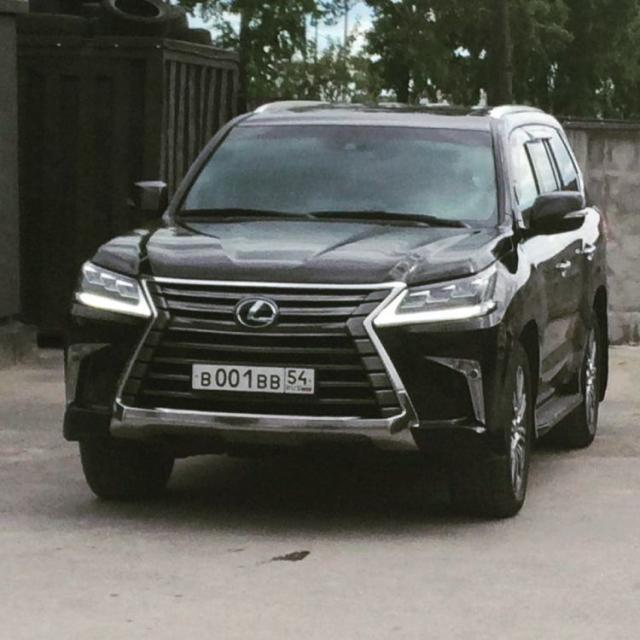number-plates: (190, 361, 316, 406)
